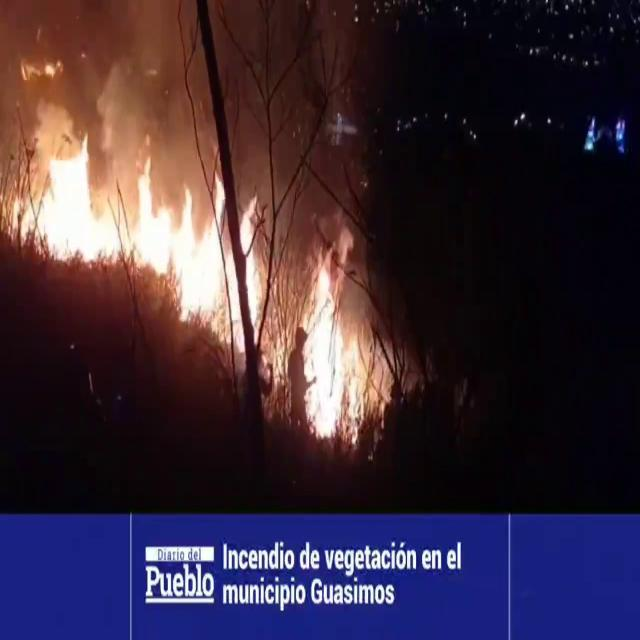Fire: (16, 126, 262, 338), (294, 252, 370, 444)
Smoke: (2, 0, 354, 161)
